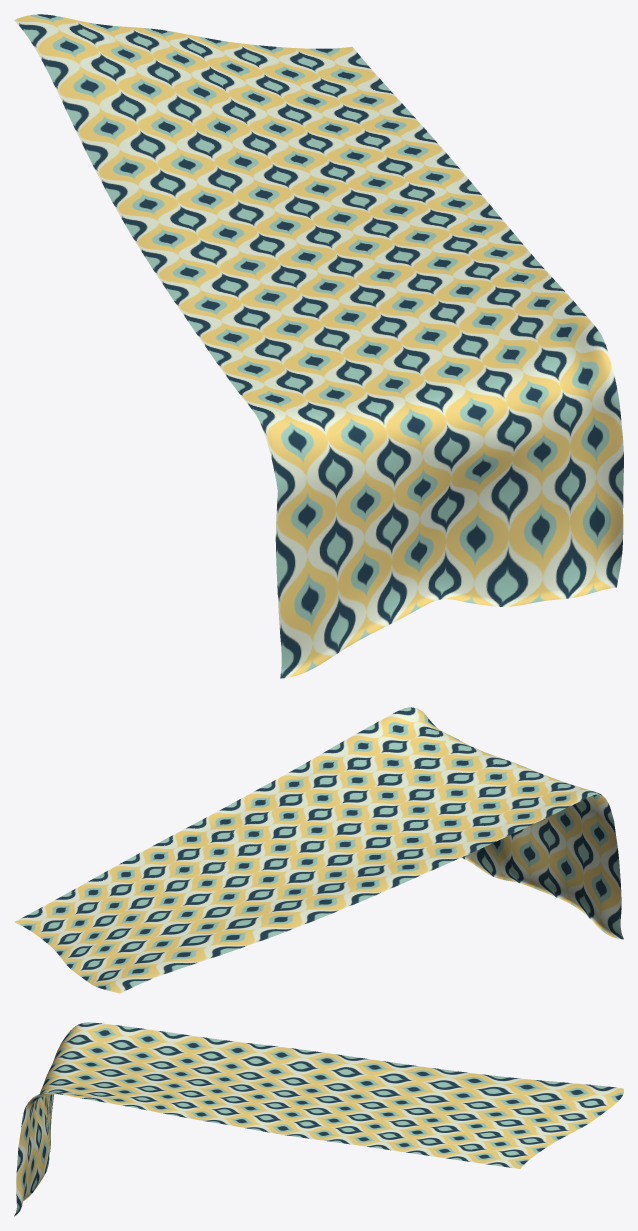
File: table-runner-test-02.glb
The picture shows the model from 3 angles, top to bottom: view 1: azimuth 30°, elevation 25°; view 2: azimuth 150°, elevation 25°; view 3: azimuth 270°, elevation 25°; orthographic projection. The views are drawn at different scales.
Parts seen in each view (by area): view 1: Plane; view 2: Plane; view 3: Plane.
Boxes of the visible parts, left/top/right/bottom form: Plane: left=14, top=14, right=623, bottom=678; Plane: left=14, top=707, right=623, bottom=993; Plane: left=14, top=1022, right=623, bottom=1216.
Bounding box in the file's own units: 7.58 × 3.94 × 14.46.
1 material, 1 textured.
